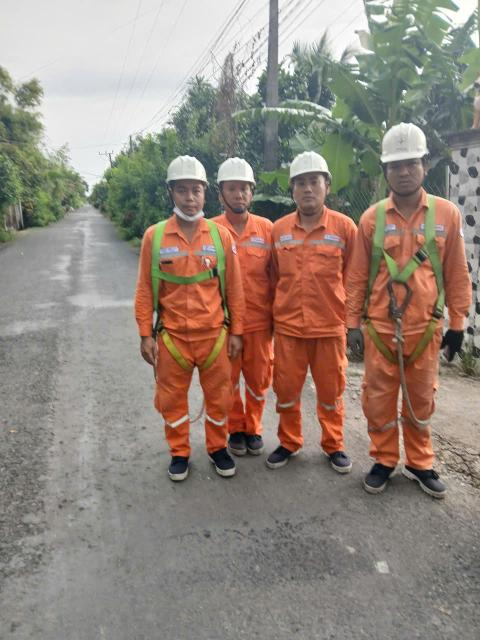gloves: (439, 320, 469, 367), (346, 325, 371, 374)
harness: (140, 213, 239, 359), (365, 201, 444, 365)
helmet: (272, 141, 338, 185), (371, 115, 425, 163), (163, 151, 214, 199), (208, 151, 262, 189)
shoes: (353, 446, 403, 500), (404, 454, 457, 501), (260, 428, 302, 473), (311, 440, 358, 478), (156, 448, 196, 479), (194, 451, 238, 478), (236, 421, 266, 458), (218, 424, 247, 458)
